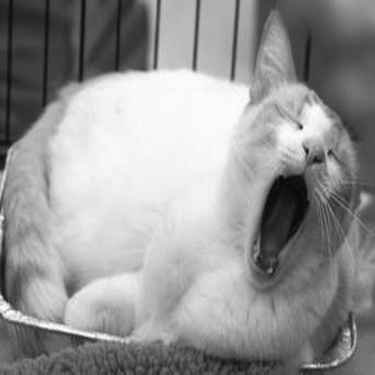cat: (1, 7, 361, 365)
